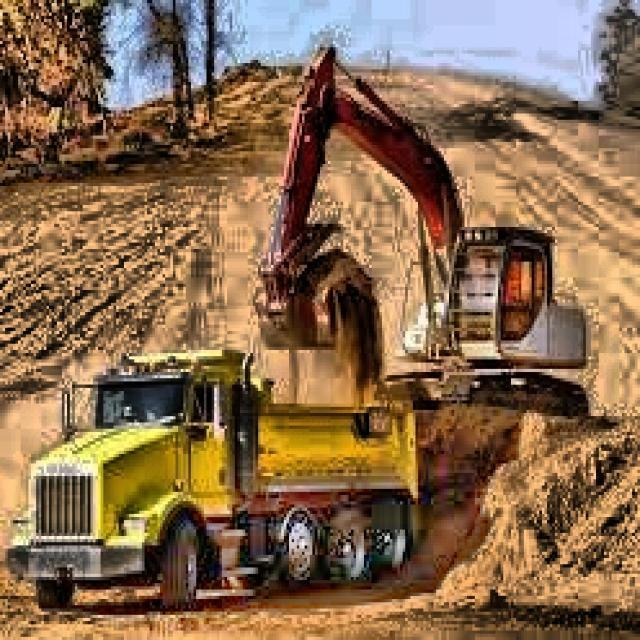dump_truck: (13, 350, 421, 606)
